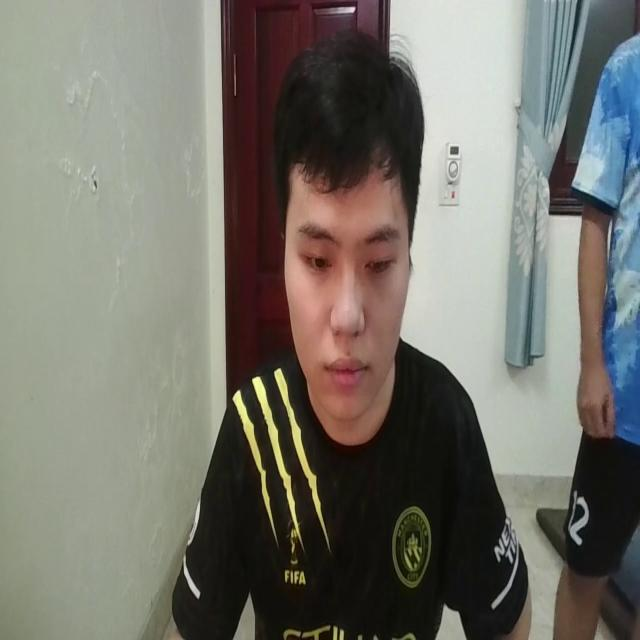extra_person: (552, 17, 640, 640)
student: (159, 31, 533, 640)
